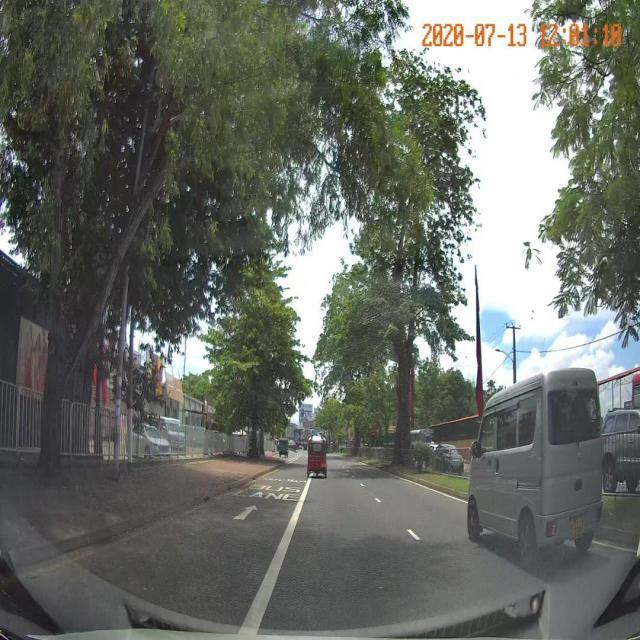BUS LANE: (232, 485, 302, 500)
Liniya 1: (235, 472, 315, 635), (380, 470, 469, 506), (405, 526, 421, 542), (373, 496, 383, 504), (359, 482, 365, 488)
Strelka vpered: (233, 505, 258, 520)
